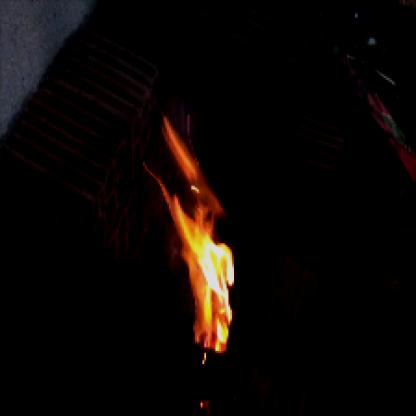Fire: (141, 98, 245, 360)
